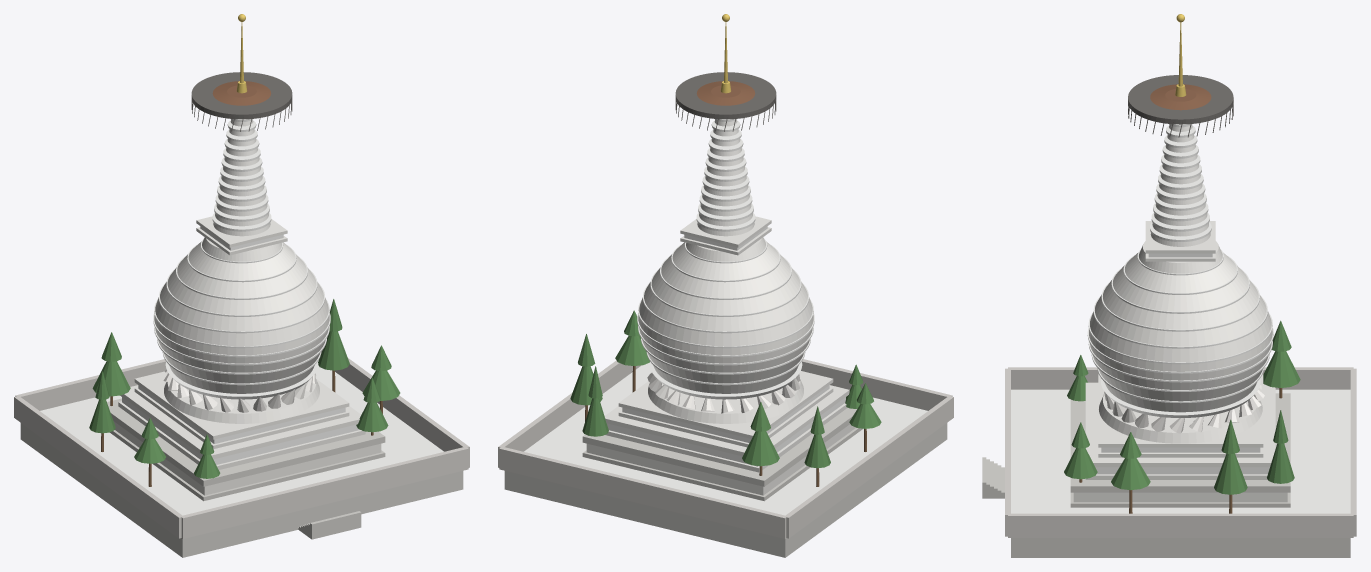
File: 妙应寺白塔.glb
3 views of the same model, side by side, from view 1: azimuth 30°, elevation 25°; view 2: azimuth 150°, elevation 25°; view 3: azimuth 270°, elevation 25° (orthographic). The views are drawn at different scales.
Visible parts, largest first — view 1: 台顶线, 高台, 围墙_0_-17.3, 围墙_-17.3_0, 须弥1_上枋, 须弥2_上枋, 华盖外框, 塔肚_6, 仰莲底盘, 塔肚_7, 须弥3_上枋, 塔肚_5 (+26 smaller); view 2: 台顶线, 高台, 围墙_0_17.3, 围墙_-17.3_0, 须弥1_上枋, 华盖外框, 须弥2_上枋, 塔肚_6, 塔肚_7, 塔肚_5, 仰莲底盘, 围墙_0_-17.3 (+25 smaller); view 3: 台顶线, 围墙_17.3_0, 高台, 须弥2_上枋, 须弥1_上枋, 华盖外框, 围墙_-17.3_0, 塔肚_6, 仰莲底盘, 塔肚_7, 塔肚_5, 塔肚_8 (+31 smaller).
Part boxes in pixels (x1,y1,x2,y2): 台顶线: (40,360,443,515); 高台: (20,423,463,557); 围墙_0_-17.3: (180,447,468,538); 围墙_-17.3_0: (14,396,181,538); 须弥1_上枋: (107,398,385,486); 须弥2_上枋: (120,385,360,459); 华盖外框: (191,72,292,119); 塔肚_6: (160,282,323,331); 仰莲底盘: (164,379,319,423); 塔肚_7: (167,267,316,315); 须弥3_上枋: (134,371,349,439); 塔肚_5: (155,297,328,346); 台顶线: (524,362,927,515); 高台: (504,423,947,557); 围墙_0_17.3: (499,447,787,538); 围墙_-17.3_0: (786,396,953,538); 须弥1_上枋: (582,408,856,486); 华盖外框: (675,72,776,119); 须弥2_上枋: (604,385,849,456); 塔肚_6: (644,282,807,331); 塔肚_7: (651,267,800,315); 塔肚_5: (639,297,812,346); 仰莲底盘: (648,380,803,423); 围墙_0_-17.3: (801,359,952,410); 台顶线: (1011,389,1350,513); 围墙_17.3_0: (1008,513,1353,537); 高台: (1011,538,1350,557); 须弥2_上枋: (1085,382,1275,467); 须弥1_上枋: (1070,393,1290,492); 华盖外框: (1128,75,1233,124); 围墙_-17.3_0: (1008,367,1353,389); 塔肚_6: (1095,294,1266,346); 仰莲底盘: (1099,394,1262,443); 塔肚_7: (1103,280,1258,329); 塔肚_5: (1090,311,1271,362); 塔肚_8: (1113,265,1248,311).
Size of what is drawn, in the model's own units: 35.2 by 52.07 by 37.46.
